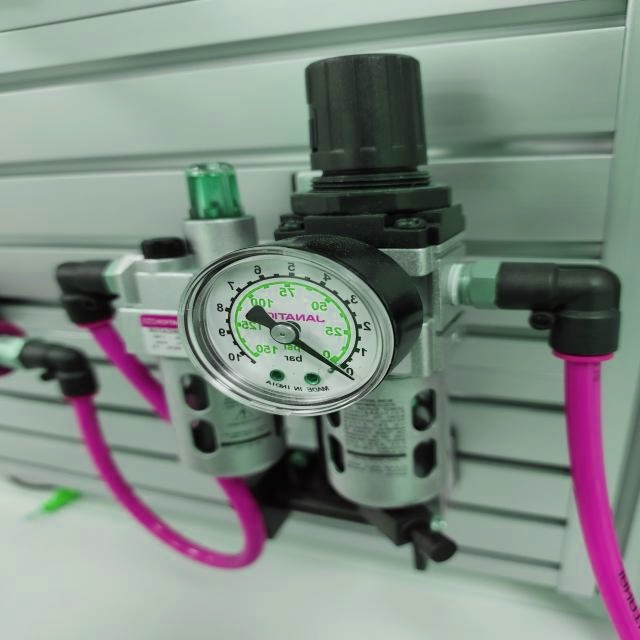FRL unit: (52, 47, 628, 579)
push button: (177, 233, 424, 417)
